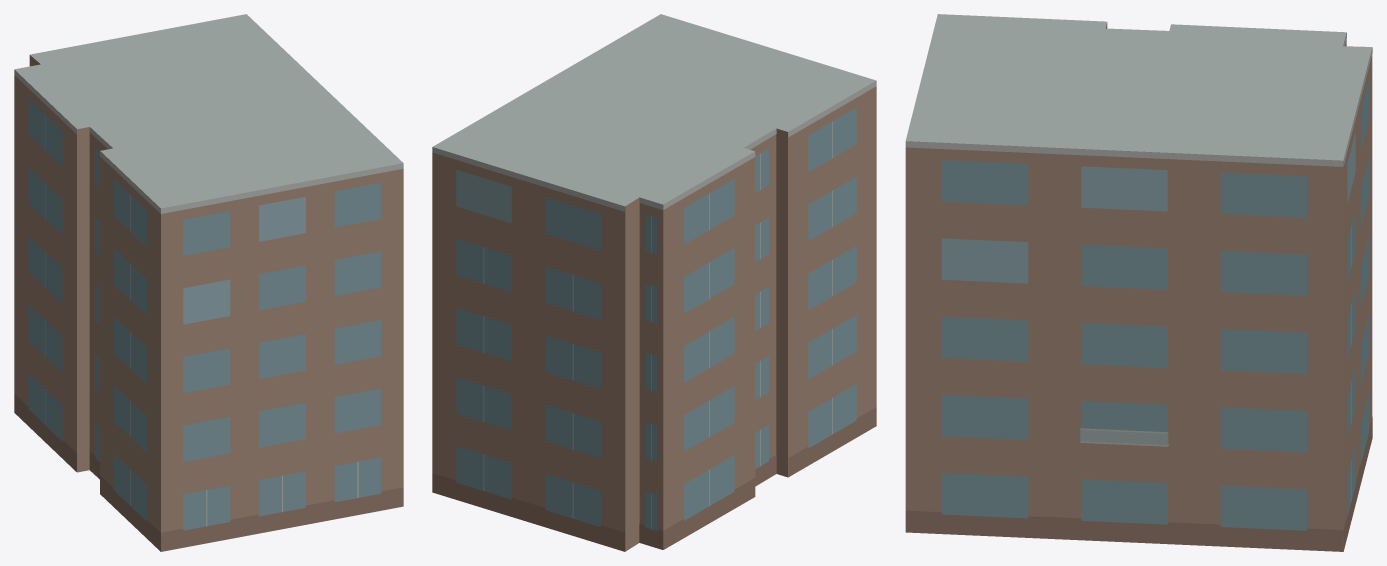
Rendered from survey-upis-32669144.glb.
3 views of the same model, side by side, from view 1: azimuth 30°, elevation 25°; view 2: azimuth 150°, elevation 25°; view 3: azimuth 270°, elevation 25° (orthographic). The views are drawn at different scales.
Parts seen in each view (by area): view 1: survey-upis-32669144.tmp; view 2: survey-upis-32669144.tmp; view 3: survey-upis-32669144.tmp.
Boxes of the visible parts, left/top/right/bottom form: survey-upis-32669144.tmp: left=14, top=14, right=403, bottom=551; survey-upis-32669144.tmp: left=432, top=14, right=876, bottom=551; survey-upis-32669144.tmp: left=905, top=14, right=1372, bottom=551.
Bounding box in the file's own units: 12.27 × 15.25 × 16.5.
